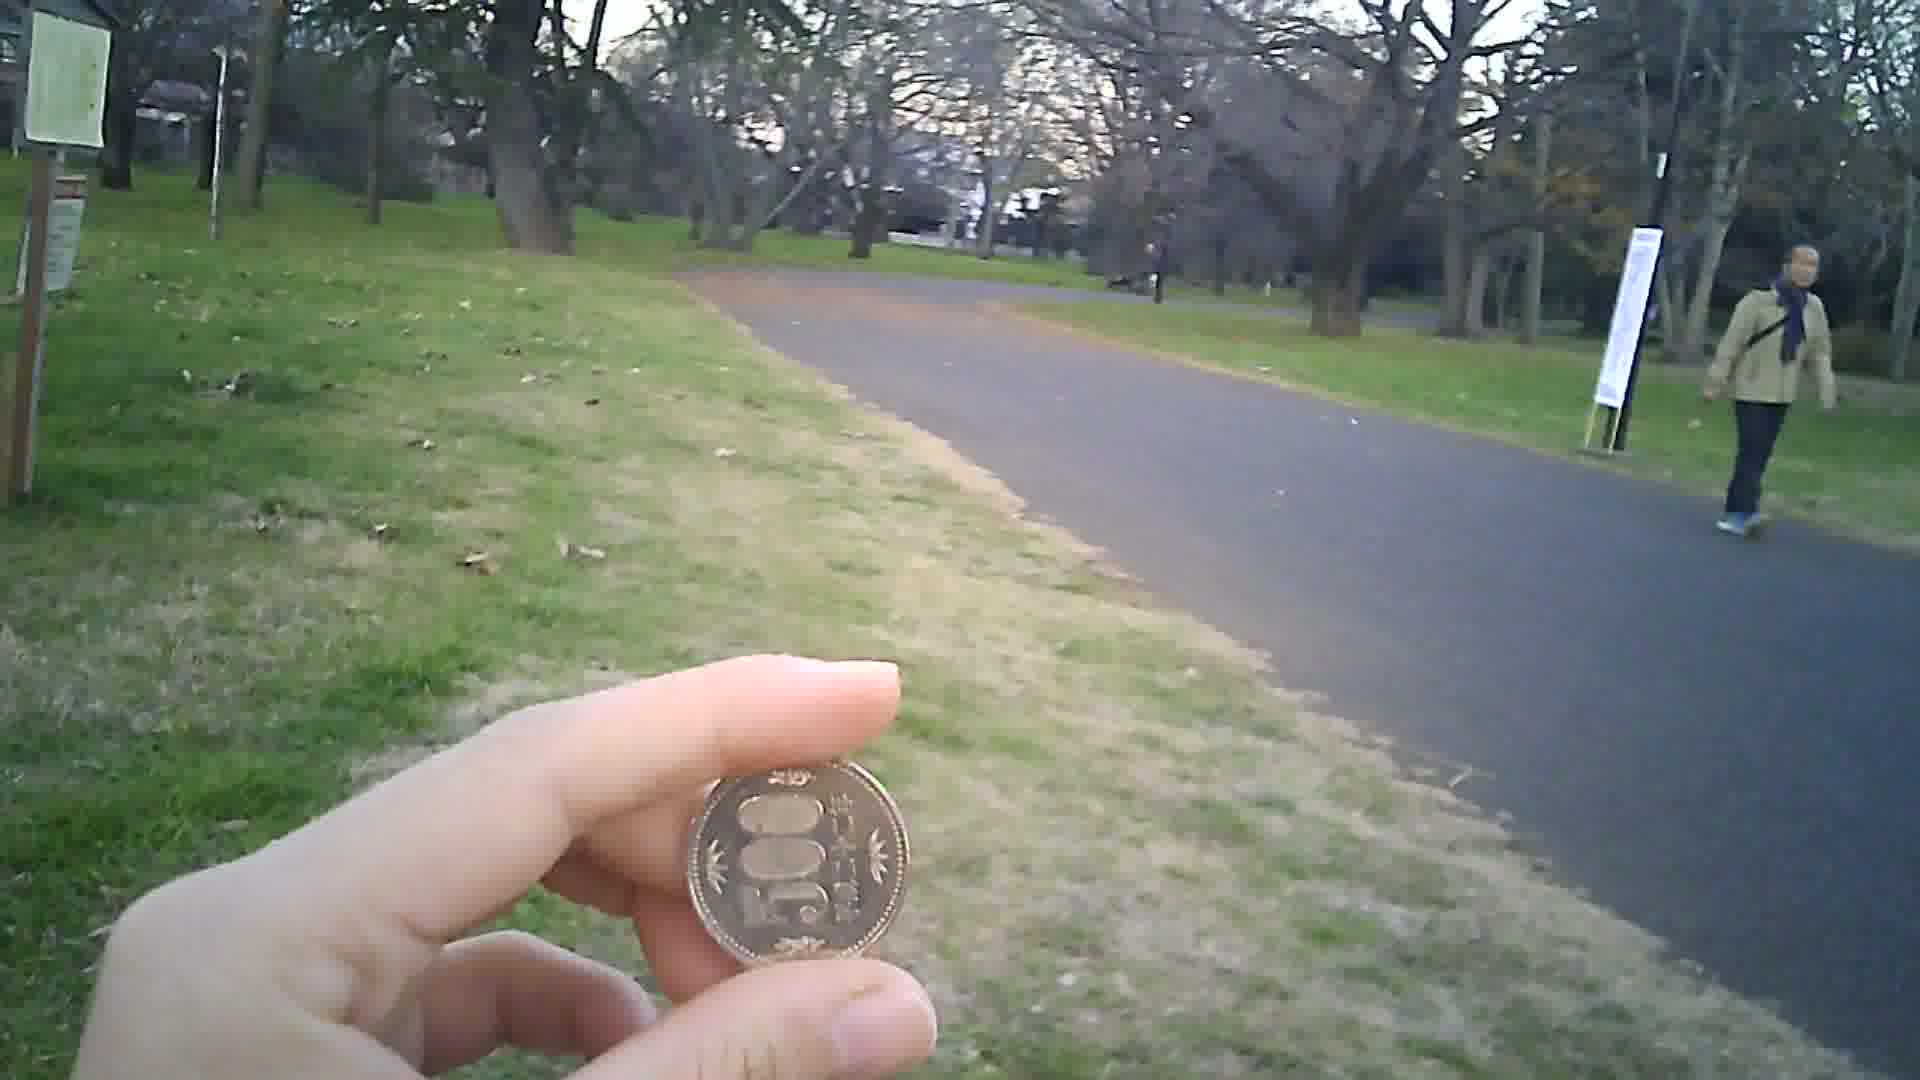500 Yen: (682, 736, 911, 967)
